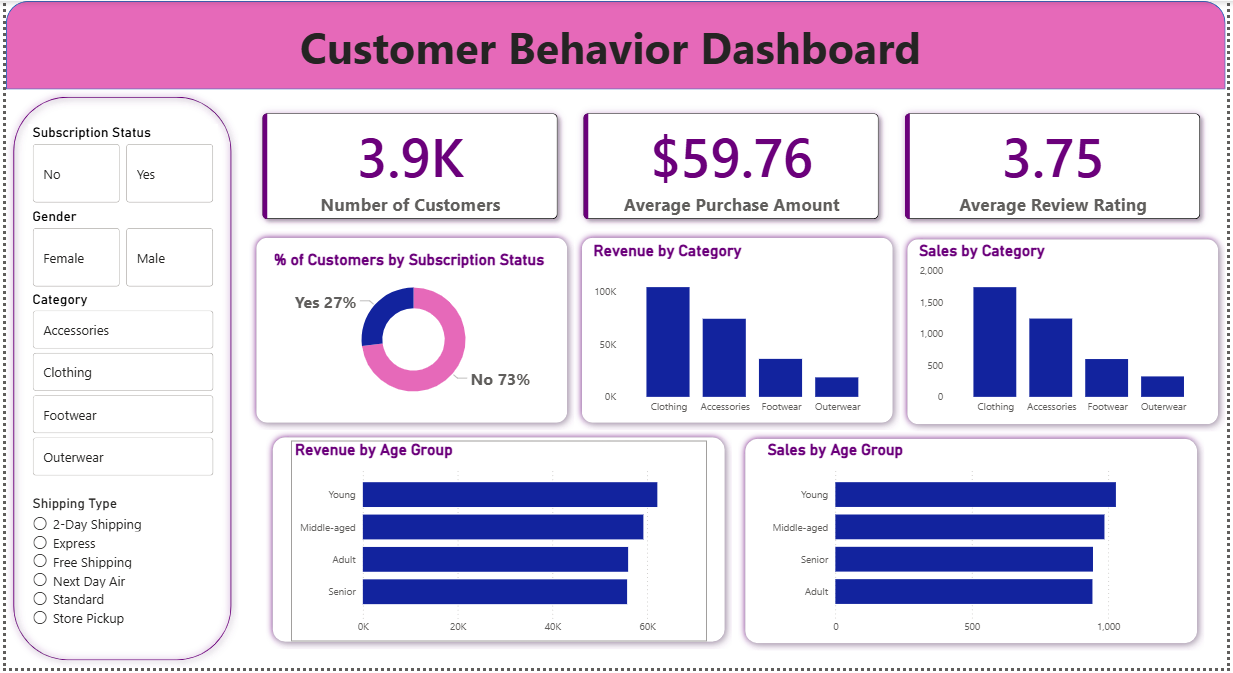

Layout of this report page (visuals, bound fields, positions):
{"tool":"powerbi","page":{"name":"Page 1","canvas":[1500,820],"ordinal":0},"visuals":[{"type":"cardVisual","fields":{"Data":["customer_behavior customer.Number of Customers","customer_behavior customer.Average Purchase Amount","customer_behavior customer.Average Review Rating"]},"box":[285.8,108.8,1213.4,188.1],"z":0},{"type":"shape","box":[0,0,1499.3,108.8],"z":1000},{"type":"textbox","box":[97.7,14.8,1305.6,81.1],"z":2000},{"type":"shape","box":[298.7,282.2,400.2,245.3],"z":3000,"group":"g1"},{"type":"shape","box":[1099.1,284,400.2,245.3],"z":3000},{"type":"shape","box":[698.9,282.2,400.2,245.3],"z":4000},{"type":"clusteredColumnChart","title":"Revenue by Category","fields":{"Y":["Sum(customer_behavior customer.purchase_amount)"],"Category":["customer_behavior customer.category"]},"box":[717.4,295.1,365.1,221.3],"z":5000},{"type":"donutChart","title":"% of Customers by Subscription Status","fields":{"Category":["customer_behavior customer.subscription_status"],"Y":["CountNonNull(customer_behavior customer.customer_id)"]},"box":[324.5,306.2,352.2,197.3],"z":6000,"group":"g1"},{"type":"group","id":"g1","title":"Group 1","box":[298.7,282.2,400.2,245.3],"z":6000},{"type":"clusteredColumnChart","title":"Sales by Category","fields":{"Y":["CountNonNull(customer_behavior customer.customer_id)"],"Category":["customer_behavior customer.category"]},"box":[1117.5,295.1,365.1,221.3],"z":7000},{"type":"shape","box":[0,108.9,286.1,710.6],"z":8000},{"type":"advancedSlicerVisual","title":"Subscription Status","fields":{"Values":["customer_behavior customer.subscription_status"]},"box":[27.7,151.2,232.4,101.4],"z":9000},{"type":"advancedSlicerVisual","title":"Gender","fields":{"Values":["customer_behavior customer.gender"]},"box":[27.7,254.5,232.4,101.4],"z":10000},{"type":"advancedSlicerVisual","title":"Category","fields":{"Values":["customer_behavior customer.category"]},"box":[27.7,355.9,232.4,232.4],"z":11000},{"type":"listSlicer","title":"Shipping Type","fields":{"Values":["customer_behavior customer.shipping_type"]},"box":[27.7,606.7,160.4,213.9],"z":12000},{"type":"shape","box":[319,527.4,573.5,269.2],"z":13000},{"type":"clusteredBarChart","title":"Revenue by Age Group","fields":{"Y":["Sum(customer_behavior customer.purchase_amount)"],"Category":["customer_behavior customer.age_group"]},"box":[350.4,540.3,510.8,247.1],"z":14000},{"type":"shape","box":[899.9,529.3,573.5,269.2],"z":15000},{"type":"clusteredBarChart","title":"Sales by Age Group","fields":{"Y":["CountNonNull(customer_behavior customer.customer_id)"],"Category":["customer_behavior customer.age_group"]},"box":[931.9,540.4,510.6,246.8],"z":15001}]}

Visuals, with their boxes in screenshot pixels (x1, y1, x2, y2), scaled from the page's 1500x820 canvas onto the 1233x673 screenshot:
cardVisual - customer_behavior customer.Number of Customers x customer_behavior customer.Average Purchase Amount: 235 89 1232 244
shape: 0 0 1232 89
textbox: 80 12 1154 79
shape: 246 232 574 433
shape: 903 233 1232 434
shape: 574 232 903 433
"Revenue by Category" clusteredColumnChart: 590 242 890 424
"% of Customers by Subscription Status" donutChart: 267 251 556 413
"Group 1" group: 246 232 574 433
"Sales by Category" clusteredColumnChart: 919 242 1219 424
shape: 0 89 235 672
"Subscription Status" advancedSlicerVisual: 23 124 214 207
"Gender" advancedSlicerVisual: 23 209 214 292
"Category" advancedSlicerVisual: 23 292 214 483
"Shipping Type" listSlicer: 23 498 155 672
shape: 262 433 734 654
"Revenue by Age Group" clusteredBarChart: 288 443 708 646
shape: 740 434 1211 655
"Sales by Age Group" clusteredBarChart: 766 444 1186 646
